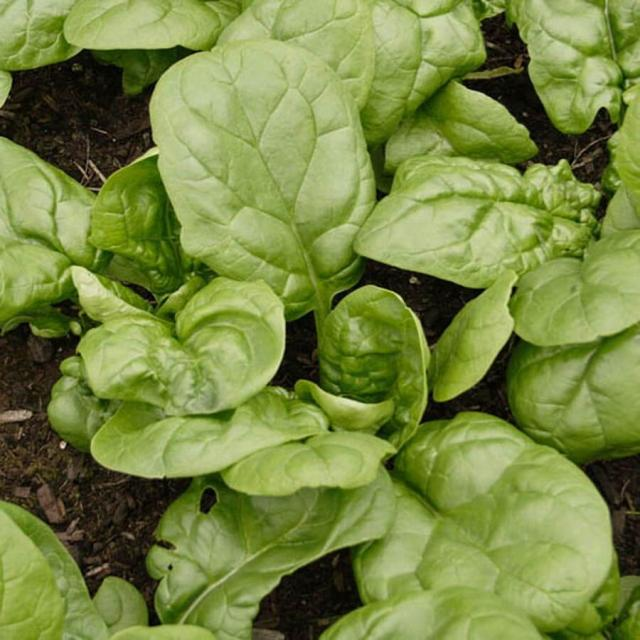spinach: (166, 47, 361, 281), (396, 447, 619, 614), (86, 301, 290, 407), (161, 493, 293, 637), (383, 162, 571, 262), (526, 0, 640, 131), (322, 290, 427, 402), (96, 411, 269, 478), (513, 253, 640, 344), (513, 348, 640, 432), (62, 0, 213, 48)
